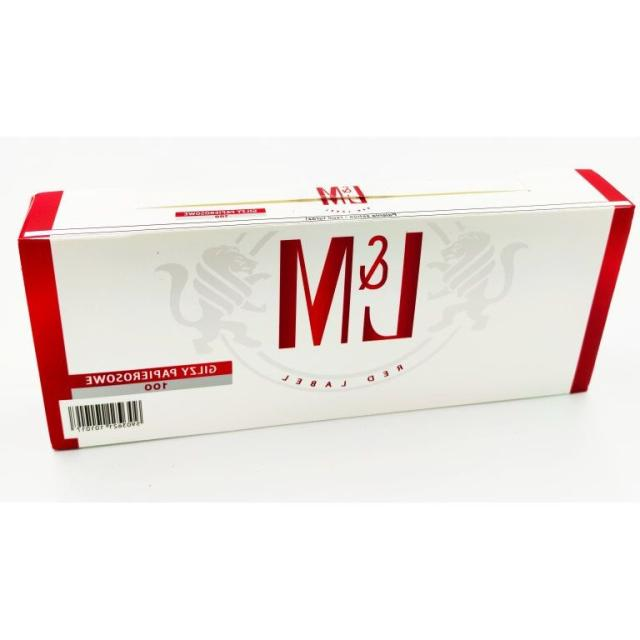lm: (2, 160, 637, 460)
